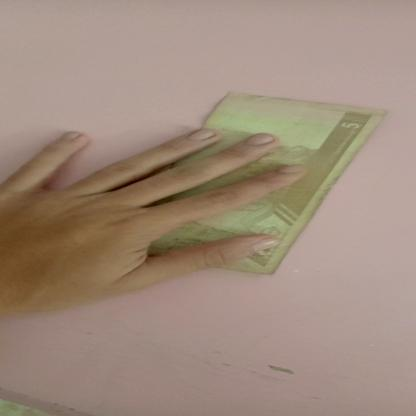five-back-vef: (146, 90, 386, 274)
